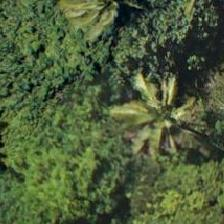coconut_tree: (110, 62, 200, 152), (56, 0, 146, 45)
